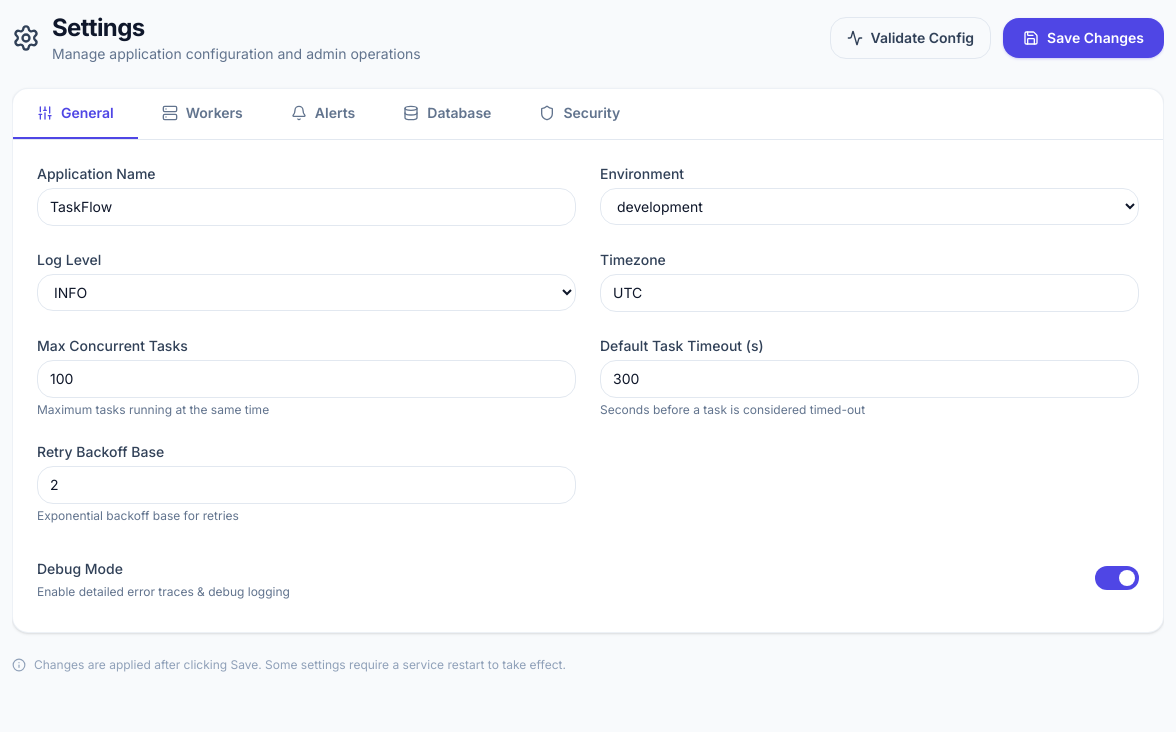
Test: SettingsPage › switches to Security tab
Click the button "Security" at (580, 114), box [515,89,644,139]
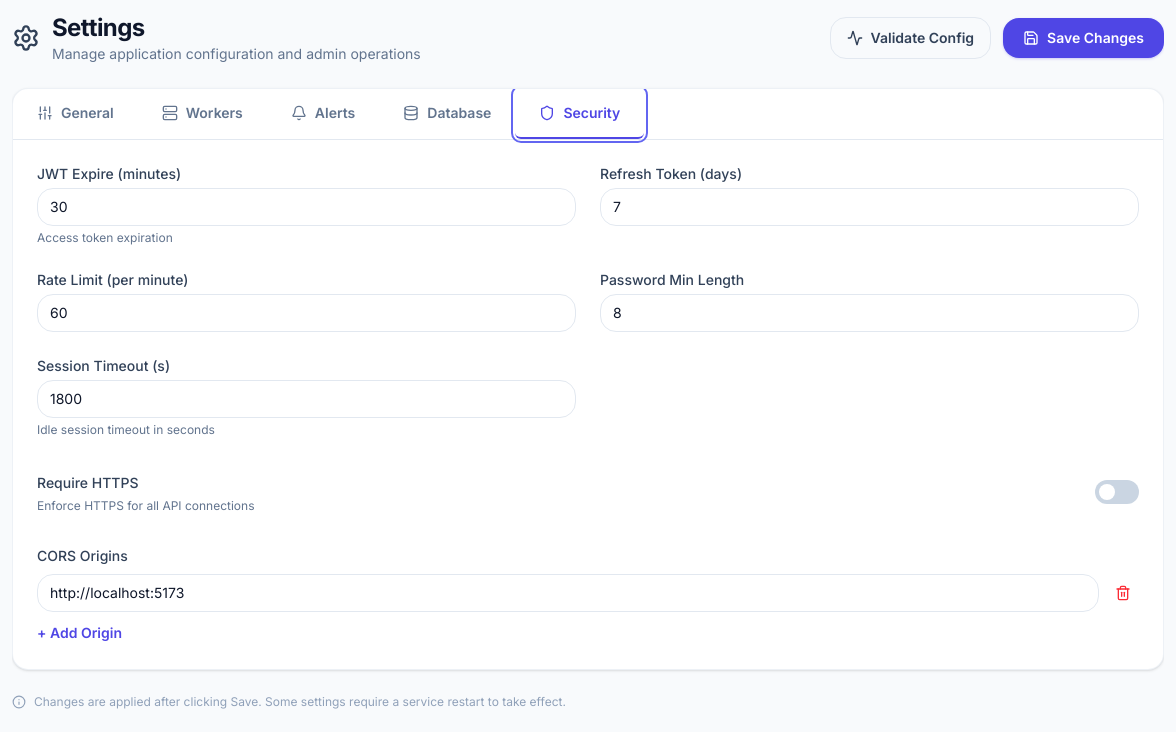
Expected: the text "JWT Expire (minutes)" is shown, [37,165,181,182]
Expected: the text "CORS Origins" is shown, [37,547,128,564]
